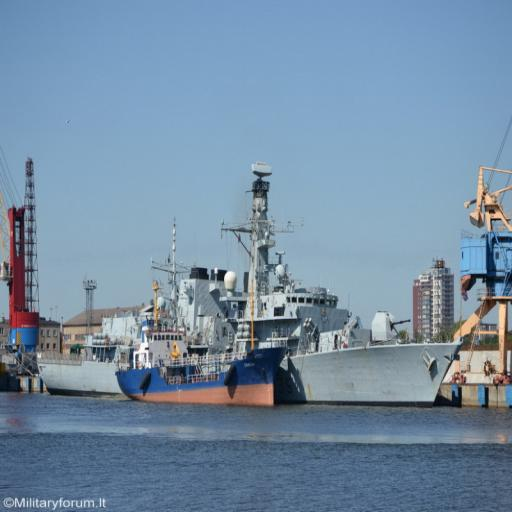Fragata: (36, 159, 468, 410)
